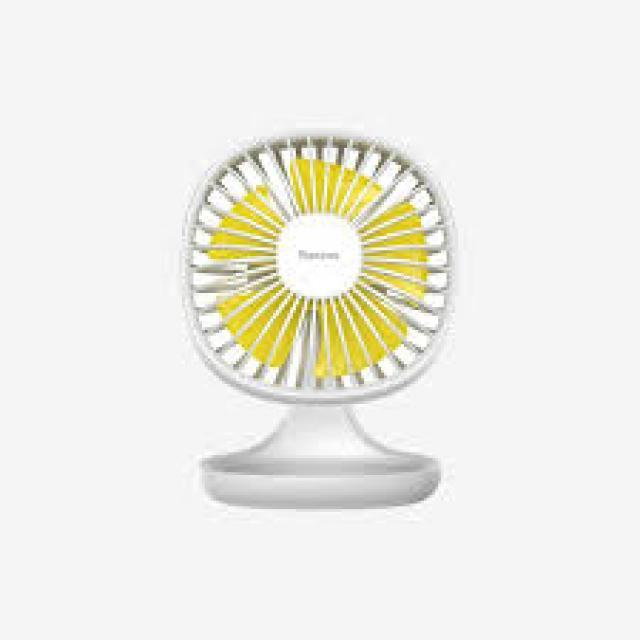fan: (143, 74, 518, 544)
